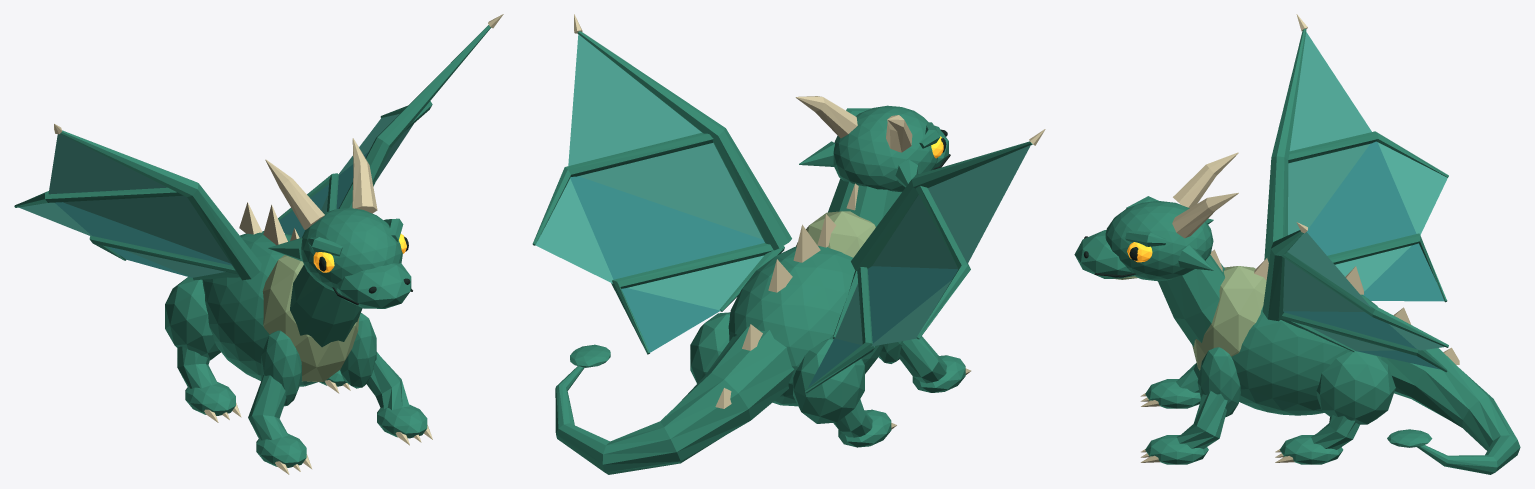
Rendered from emerald-dragon.glb.
3 renders of one model, left to right at view 1: azimuth 30°, elevation 25°; view 2: azimuth 150°, elevation 25°; view 3: azimuth 270°, elevation 25°, orthographic. The views are drawn at different scales.
Visible parts, largest first — view 1: Matte emerald scales, Jade wing membranes, Ivory horn and claws, Sage underside, Deep jade wing facets; view 2: Matte emerald scales, Jade wing membranes, Deep jade wing facets, Ivory horn and claws, Sage underside; view 3: Matte emerald scales, Jade wing membranes, Deep jade wing facets, Sage underside, Ivory horn and claws.
Part boxes in pixels (x1,y1,x2,y2): Matte emerald scales: (14,25,491,467); Jade wing membranes: (19,114,413,277); Ivory horn and claws: (54,14,503,474); Sage underside: (262,255,359,381); Deep jade wing facets: (55,151,368,277); Matte emerald scales: (532,31,1032,474); Jade wing membranes: (535,34,1030,346); Deep jade wing facets: (570,176,958,387); Ivory horn and claws: (574,14,1045,429); Sage underside: (796,211,875,257); Matte emerald scales: (1074,28,1520,474); Jade wing membranes: (1283,32,1447,350); Deep jade wing facets: (1283,141,1443,369); Sage underside: (1105,266,1266,370); Ivory horn and claws: (1140,14,1459,462).
Size of the model in its own units: 2.16 by 1.53 by 1.96.
